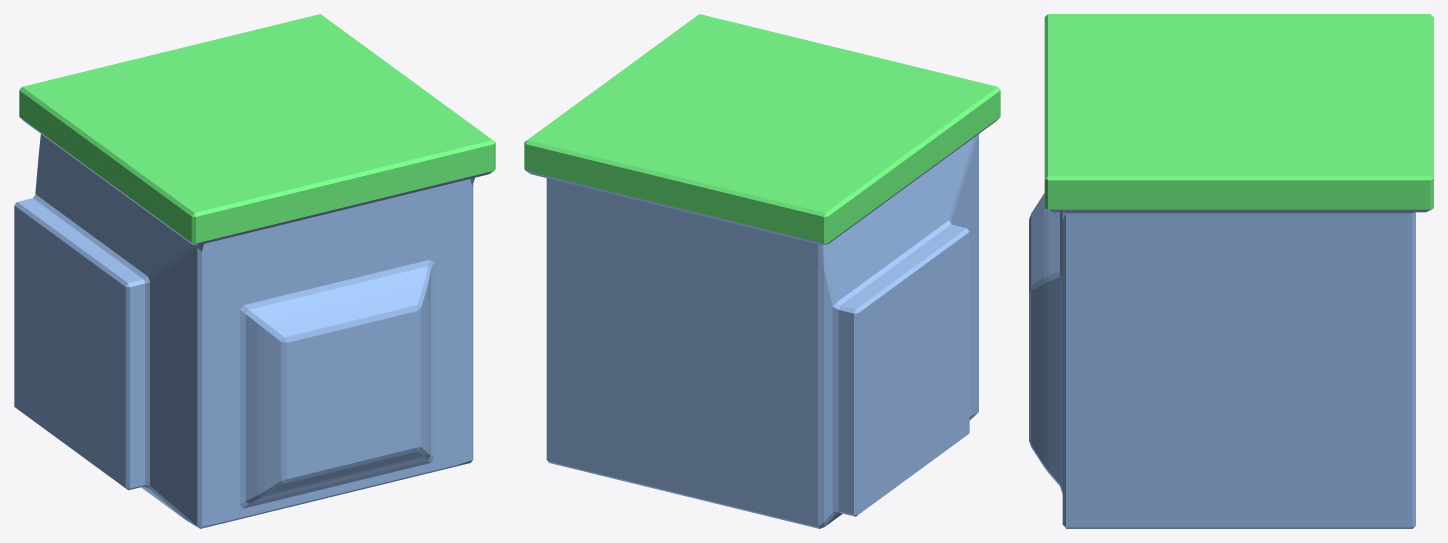
Rendered from Rock 1.fbx.
The picture shows the model from 3 angles, left to right: view 1: azimuth 30°, elevation 25°; view 2: azimuth 150°, elevation 25°; view 3: azimuth 270°, elevation 25°; orthographic projection. The views are drawn at different scales.
Visible parts, largest first — view 1: Rock 1; view 2: Rock 1; view 3: Rock 1.
Part boxes in pixels (x1=…): Rock 1: x1=14, y1=14, x2=495, y2=528; Rock 1: x1=524, y1=14, x2=1000, y2=528; Rock 1: x1=1029, y1=14, x2=1433, y2=528.
Size of the model in its own units: 233 by 225 by 229.
